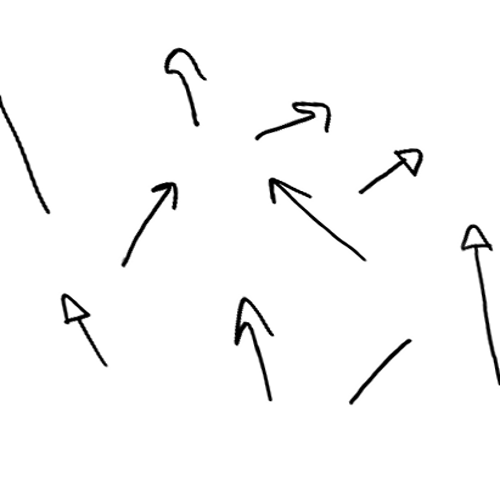arrow: (264, 171, 363, 263), (457, 223, 500, 378), (224, 292, 278, 401), (2, 95, 51, 215), (119, 180, 178, 264), (57, 289, 109, 369), (250, 92, 333, 140), (350, 335, 410, 401), (163, 46, 209, 130), (353, 142, 423, 195)
